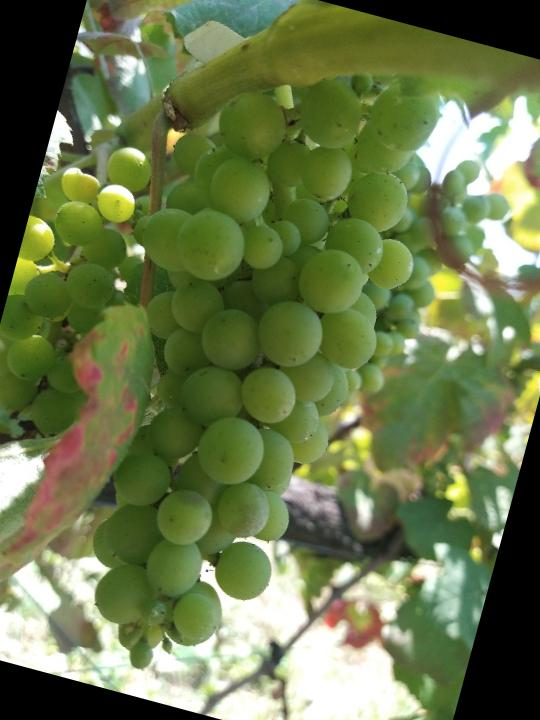grape: (23, 20, 461, 711)
